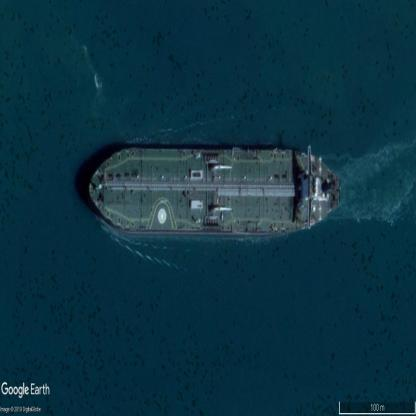ship: (88, 147, 341, 235)
